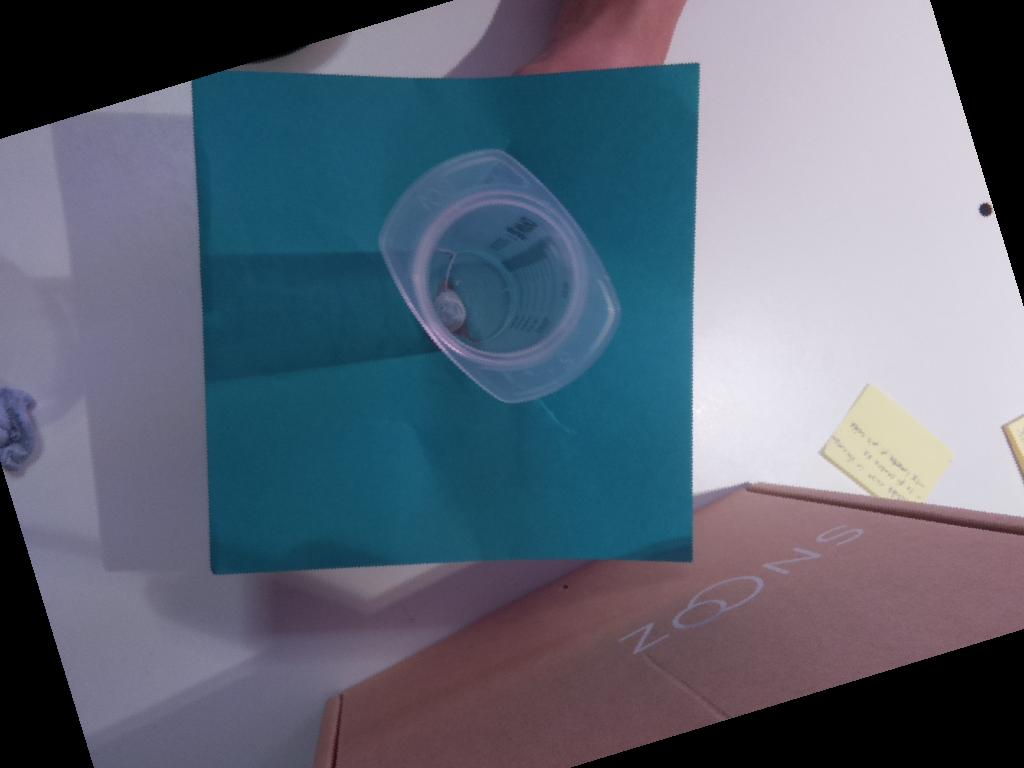clean: (379, 149, 624, 404)
